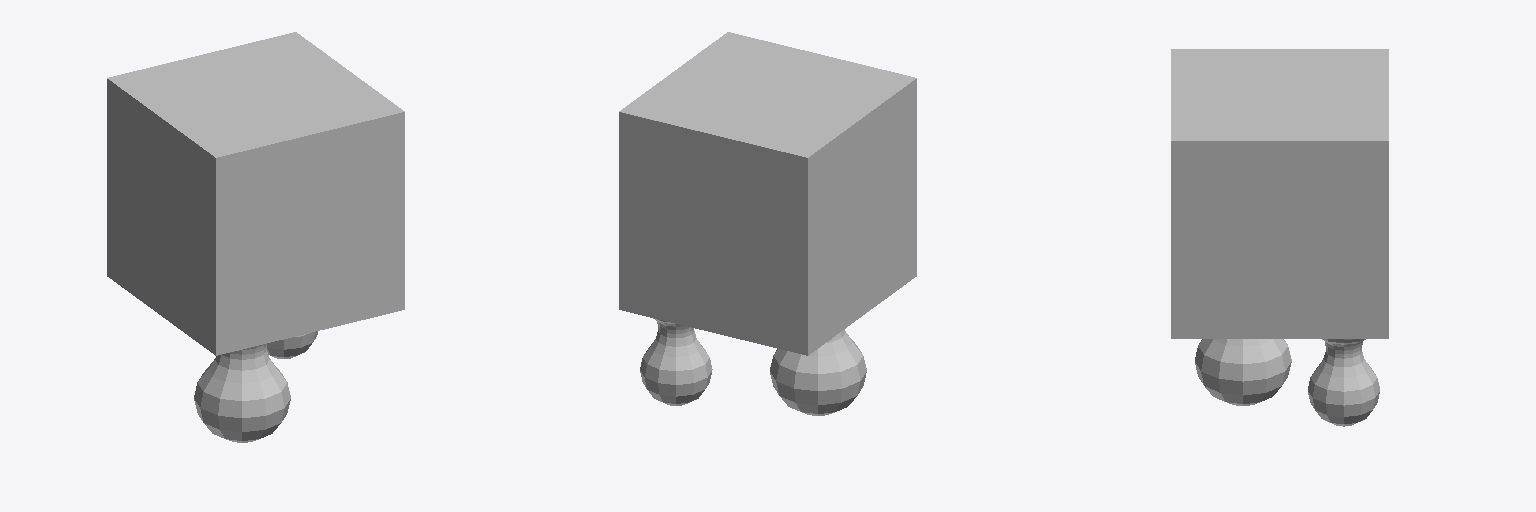
The model's file is drip_1.obj.
3 views of the same model, side by side, from view 1: azimuth 30°, elevation 25°; view 2: azimuth 150°, elevation 25°; view 3: azimuth 270°, elevation 25° (orthographic).
Visible parts, largest first — view 1: Cube.001_Cube.000, Sphere.003_Sphere.001, Sphere; view 2: Cube.001_Cube.000, Sphere.003_Sphere.001, Sphere; view 3: Cube.001_Cube.000, Sphere.003_Sphere.001, Sphere.
Part boxes in pixels (bbox=[...]): Cube.001_Cube.000: bbox=[107, 32, 404, 355]; Sphere.003_Sphere.001: bbox=[194, 344, 290, 442]; Sphere: bbox=[267, 331, 317, 358]; Cube.001_Cube.000: bbox=[619, 32, 916, 355]; Sphere.003_Sphere.001: bbox=[770, 329, 866, 415]; Sphere: bbox=[640, 318, 712, 405]; Cube.001_Cube.000: bbox=[1171, 49, 1388, 338]; Sphere.003_Sphere.001: bbox=[1195, 339, 1291, 405]; Sphere: bbox=[1308, 339, 1379, 426].
Bounding box in the file's own units: 1 × 1.63 × 1.